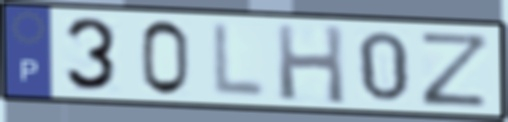0: (354, 29, 414, 104), (138, 18, 193, 97)
3: (60, 14, 124, 94)
H: (273, 22, 349, 107)
L: (208, 20, 269, 102)
Z: (418, 29, 494, 110)
